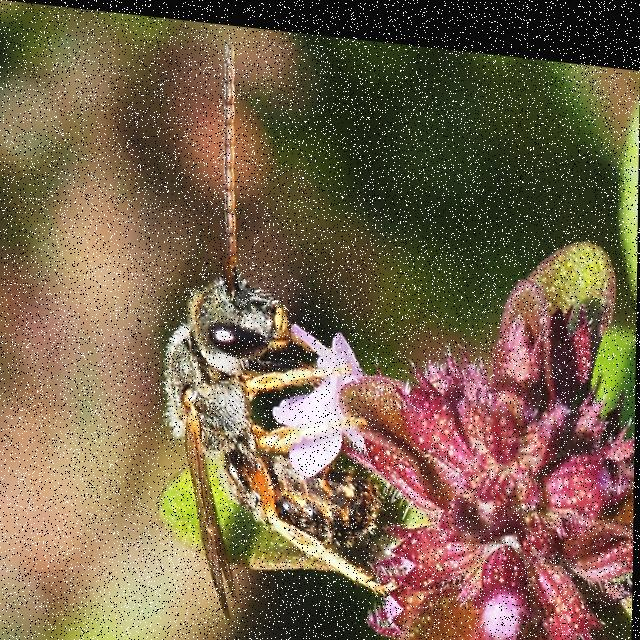Seladonia: (119, 23, 426, 640)
